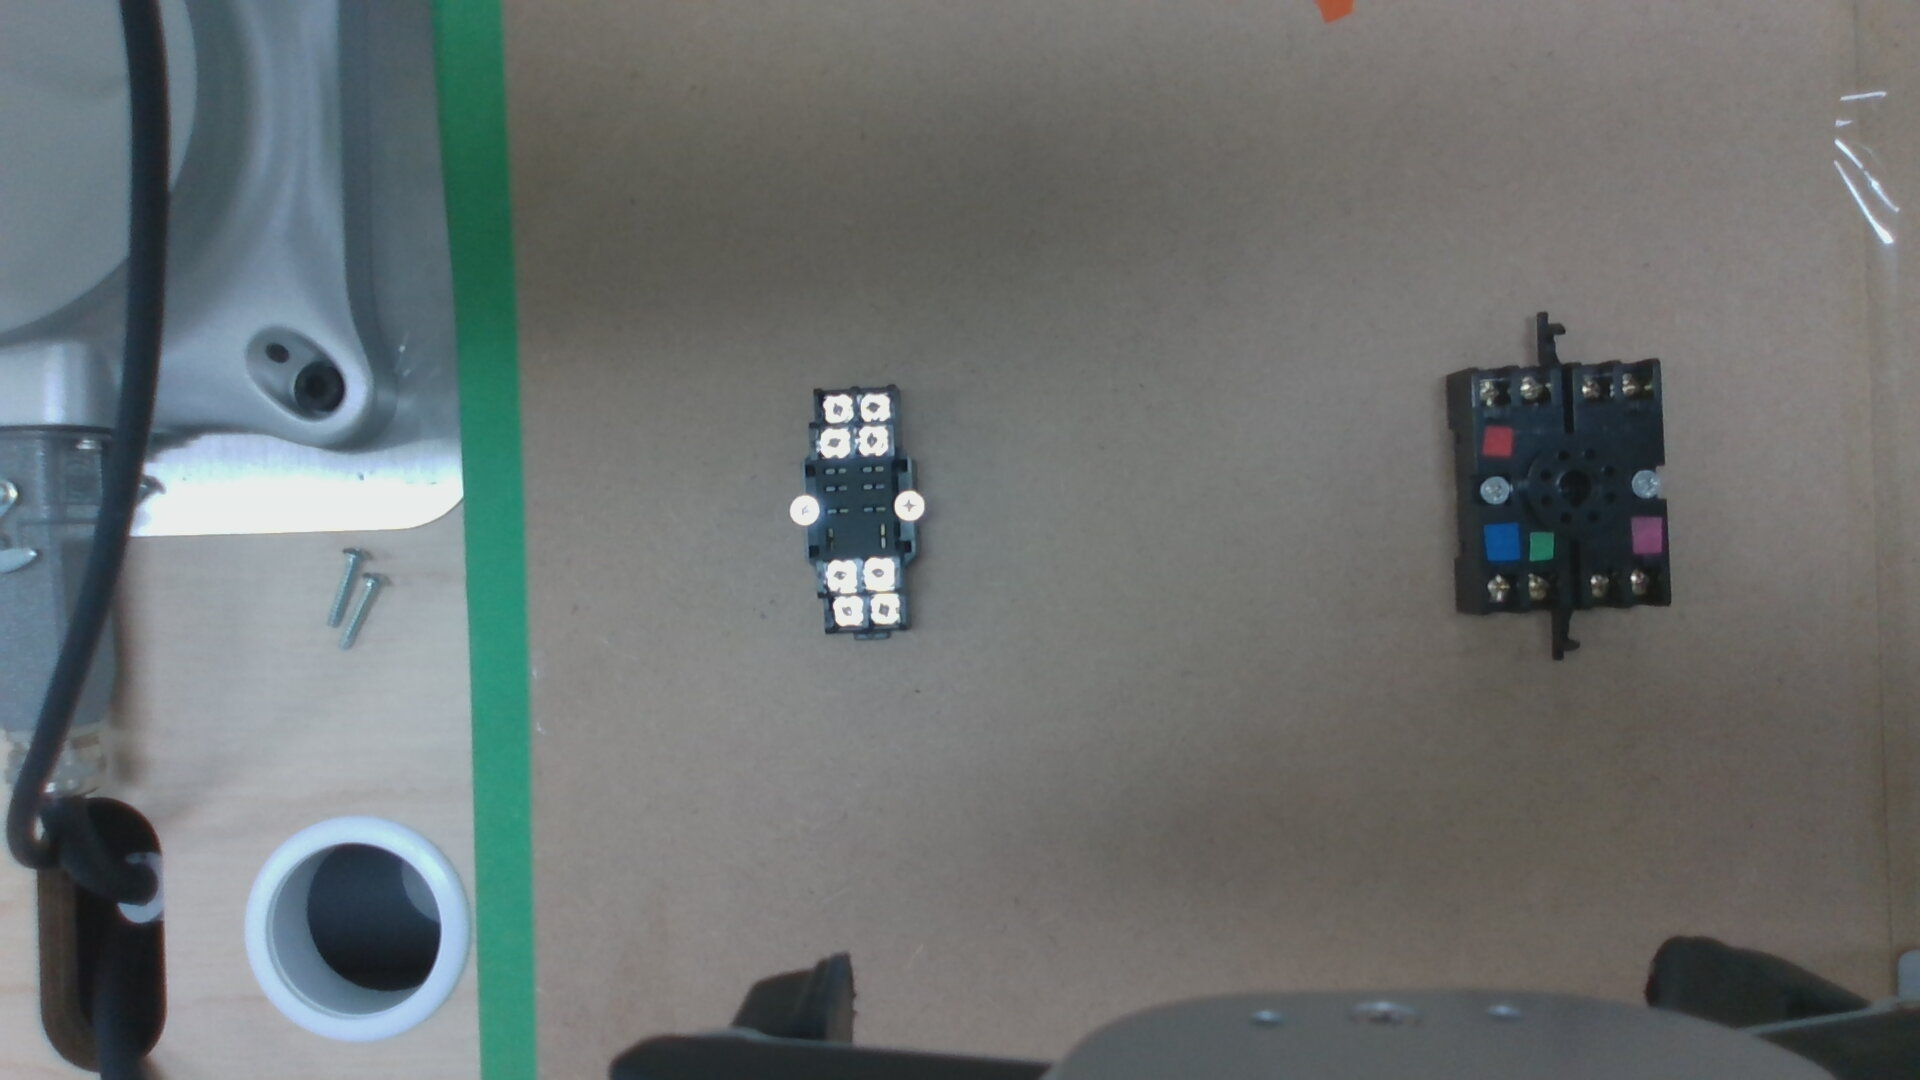relay 3: (858, 394, 890, 421)
relay 4: (819, 396, 852, 422)
relay 5: (866, 595, 899, 622)
relay 6: (829, 597, 862, 624)
relay 7: (862, 556, 894, 589)
relay 8: (823, 560, 857, 589)
